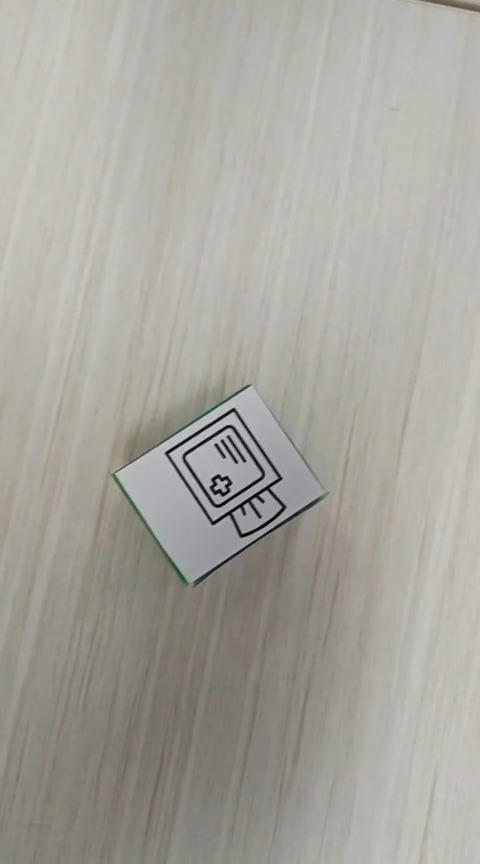Gauze: (110, 382, 329, 588)
